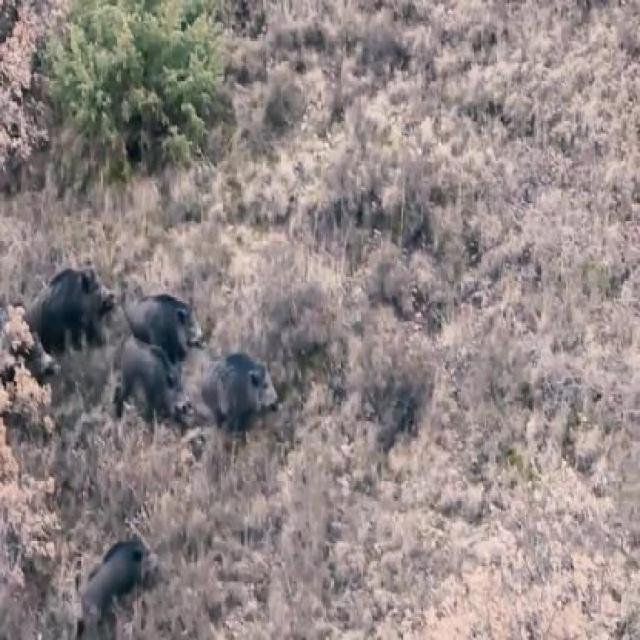pig: (52, 516, 160, 622), (197, 344, 303, 448), (12, 240, 107, 352), (120, 331, 172, 427), (148, 275, 205, 334)
